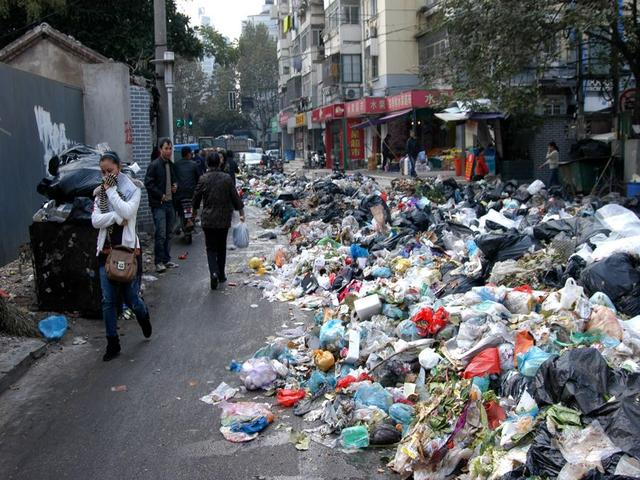garbage: (317, 198, 635, 428)
